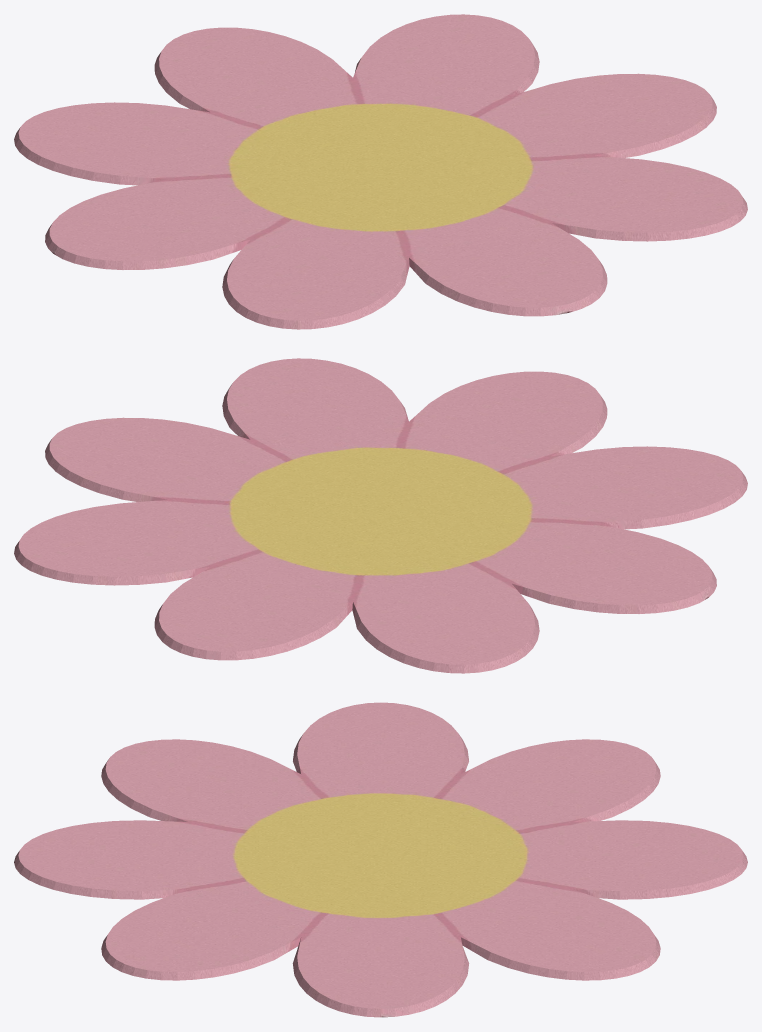
The model's file is rug-daisy-pink.glb.
The picture shows the model from 3 angles, top to bottom: view 1: azimuth 30°, elevation 25°; view 2: azimuth 150°, elevation 25°; view 3: azimuth 270°, elevation 25°; orthographic projection. The views are drawn at different scales.
Parts seen in each view (by area): view 1: rug-daisy-pink; view 2: rug-daisy-pink; view 3: rug-daisy-pink.
Part boxes in pixels (x1,y1,x2,y2): rug-daisy-pink: (14,14,747,329); rug-daisy-pink: (14,358,747,673); rug-daisy-pink: (14,702,747,1017).
Bounding box in the file's own units: 1 × 0.01 × 1.
Materials: 1 (1 with a texture image).
